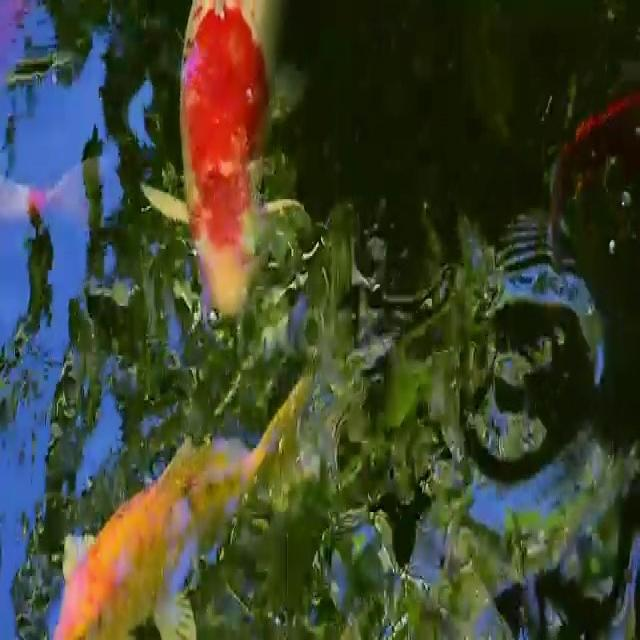fish: (52, 361, 372, 640), (138, 0, 322, 328)
